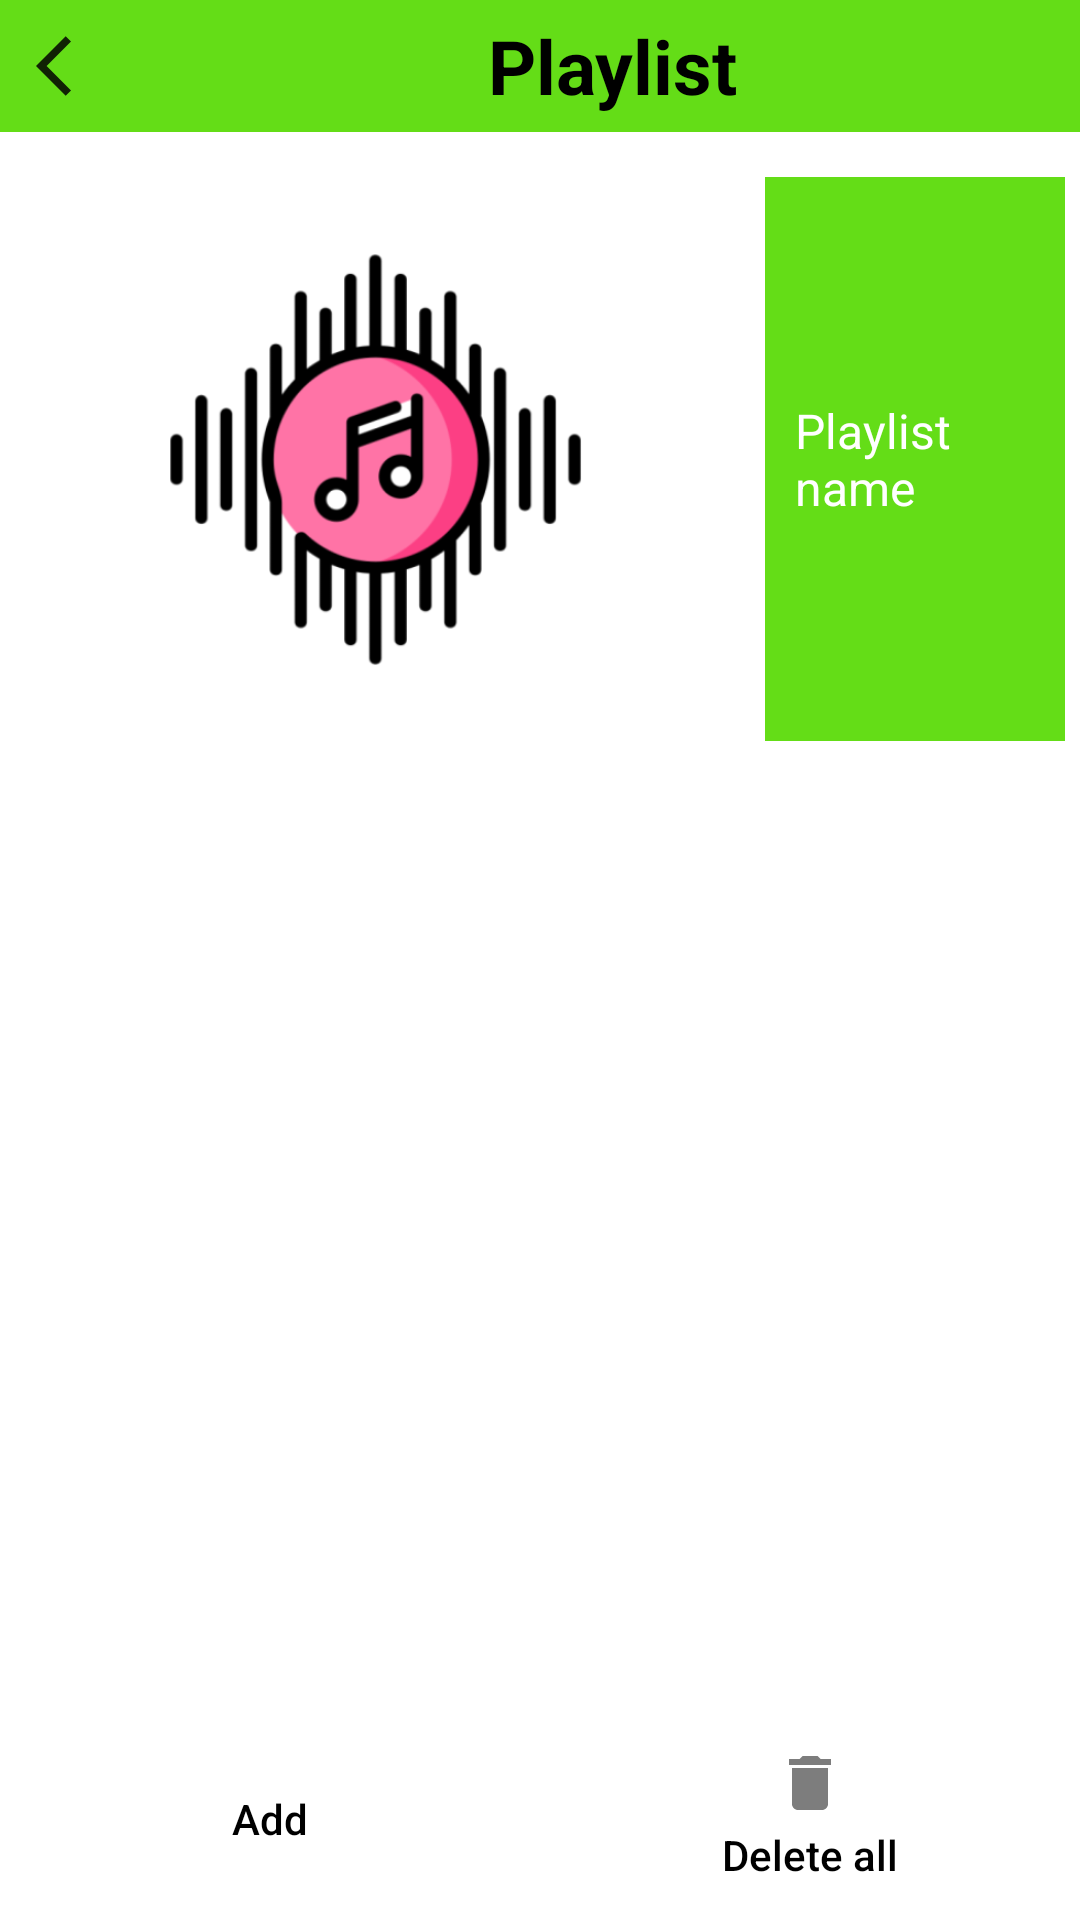

Icons on this 1080w x 1920h Android screen, each with the point to tap as (x=x, y=y):
back: (x=53, y=66)
